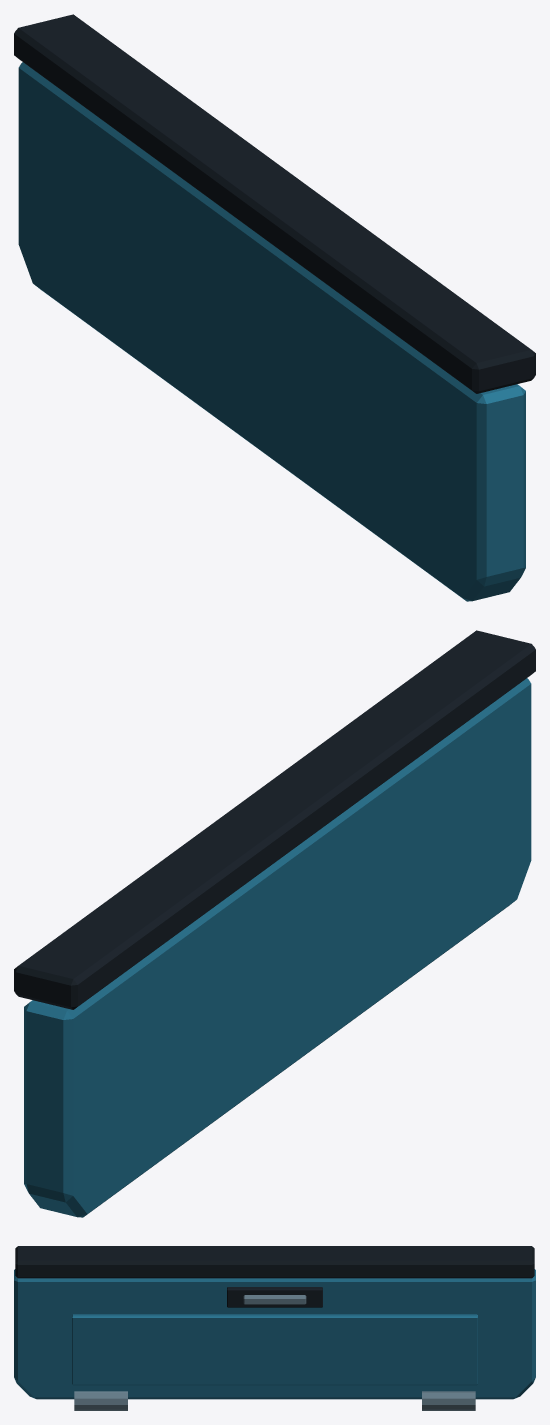
Rendered from QC_Tailgate.fbx.
3 renders of one model, top to bottom at view 1: azimuth 30°, elevation 25°; view 2: azimuth 150°, elevation 25°; view 3: azimuth 270°, elevation 25°, orthographic. The views are drawn at different scales.
Visible parts, largest first — view 1: QC_Tailgate; view 2: QC_Tailgate; view 3: QC_Tailgate.
Part boxes in pixels (x1=…): QC_Tailgate: x1=14, y1=14, x2=535, y2=601; QC_Tailgate: x1=14, y1=630, x2=535, y2=1217; QC_Tailgate: x1=14, y1=1246, x2=535, y2=1410.
Size of the model in its own units: 0.149 by 0.491 by 1.55.
